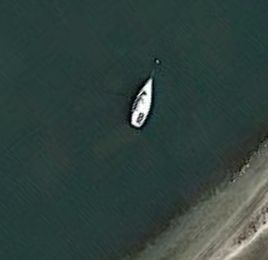boat: (128, 77, 155, 131)
